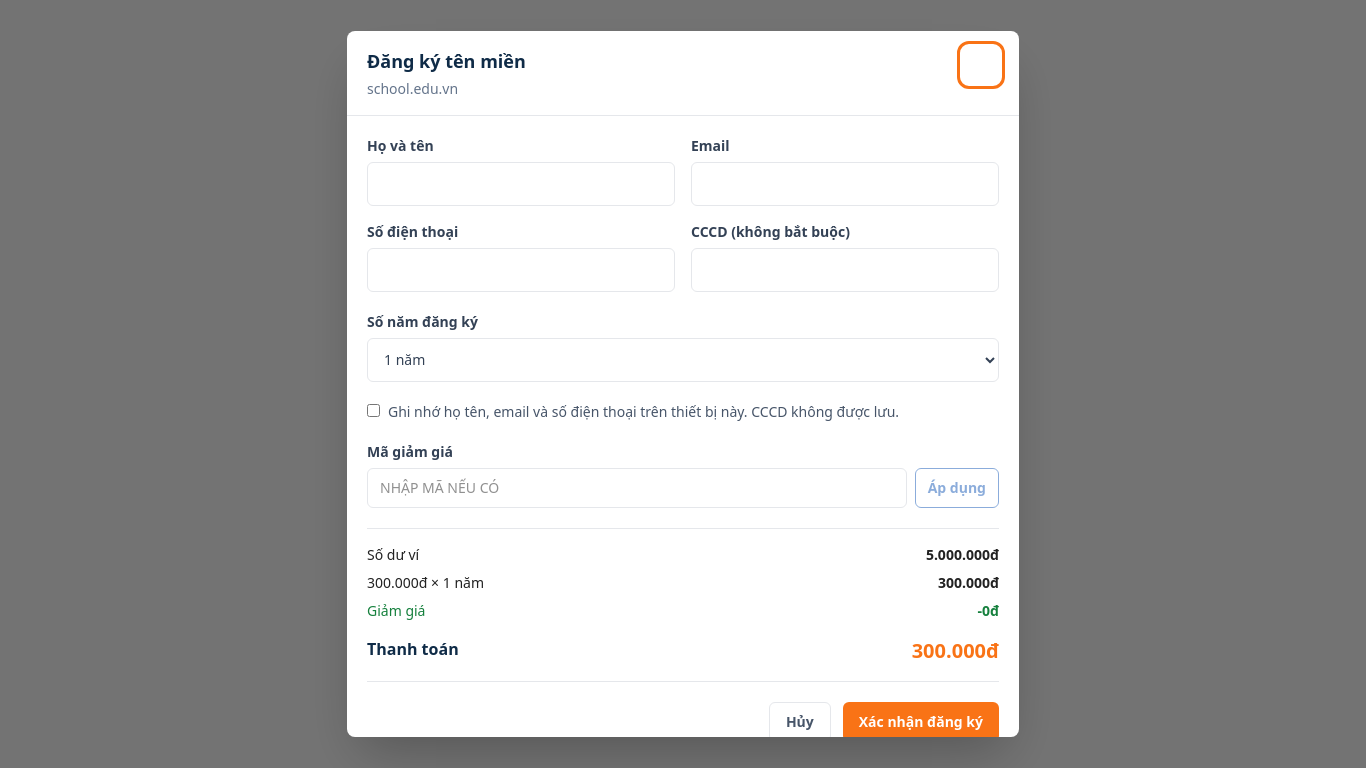
Test: DomainCheckout › previews a coupon against the decimal-safe yearly total
Expected: the text "5.000.000đ" is shown, [926,545,999,565]
Select "2 năm" in the dropdown labelled "Số năm đăng ký" at (683, 360), box [367,338,999,382]
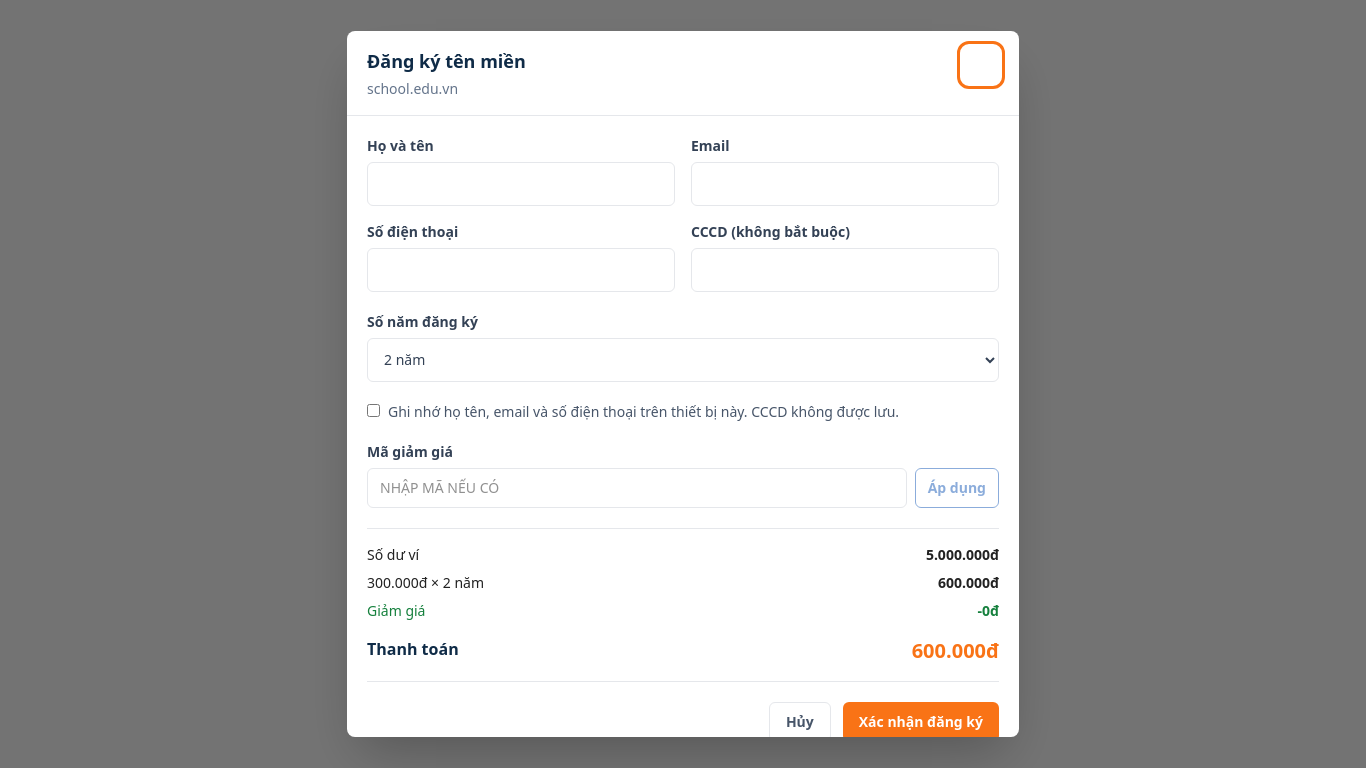
Type " sale10 " into the field labelled "Mã giảm giá" at (637, 488), box [367,468,907,508]
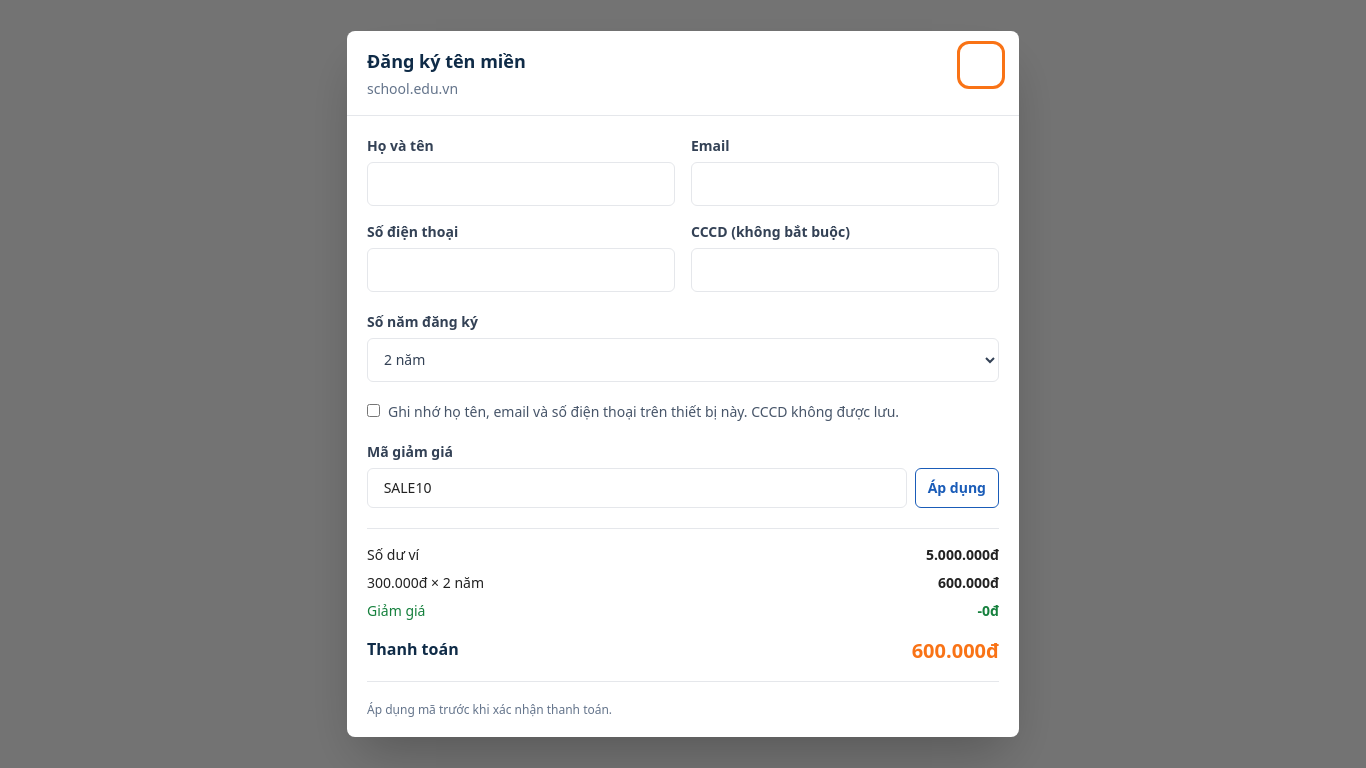
Click the button "Áp dụng" at (957, 488), box [915,468,999,508]
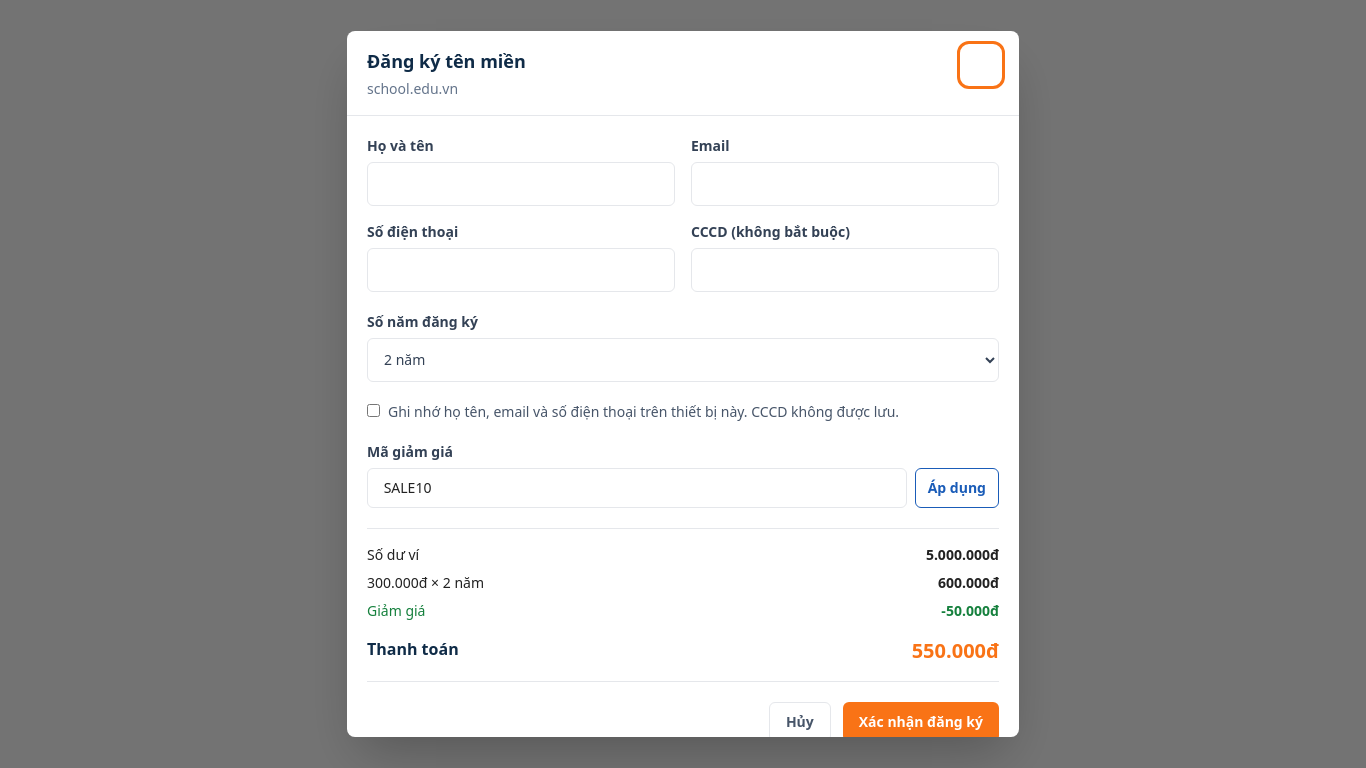
Expected: the text "550.000đ" is shown, [912,637,999,665]
